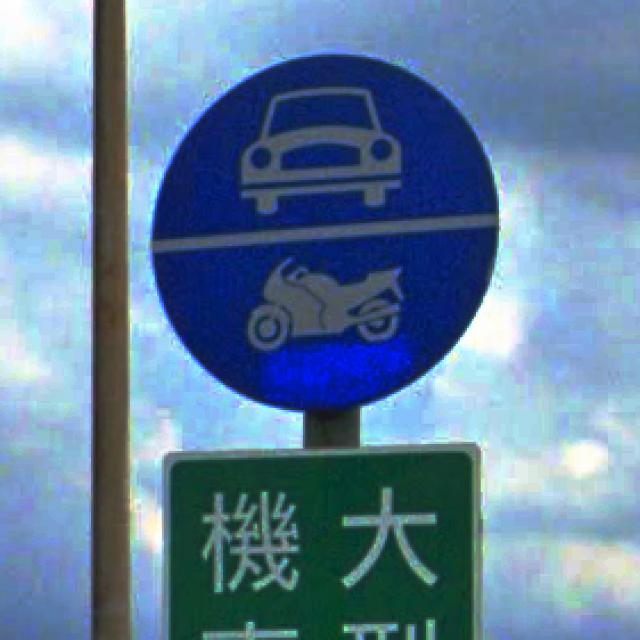carmotorcycle: (150, 55, 501, 412)
